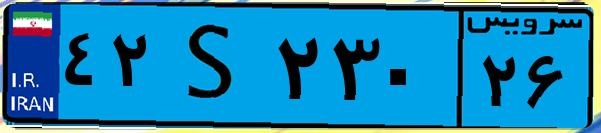0: (385, 28, 445, 110)
2: (270, 28, 330, 110), (475, 38, 525, 113), (110, 28, 158, 98)
3: (330, 28, 385, 110)
4: (57, 26, 110, 100)
6: (525, 38, 570, 115)
S: (158, 12, 270, 120)
